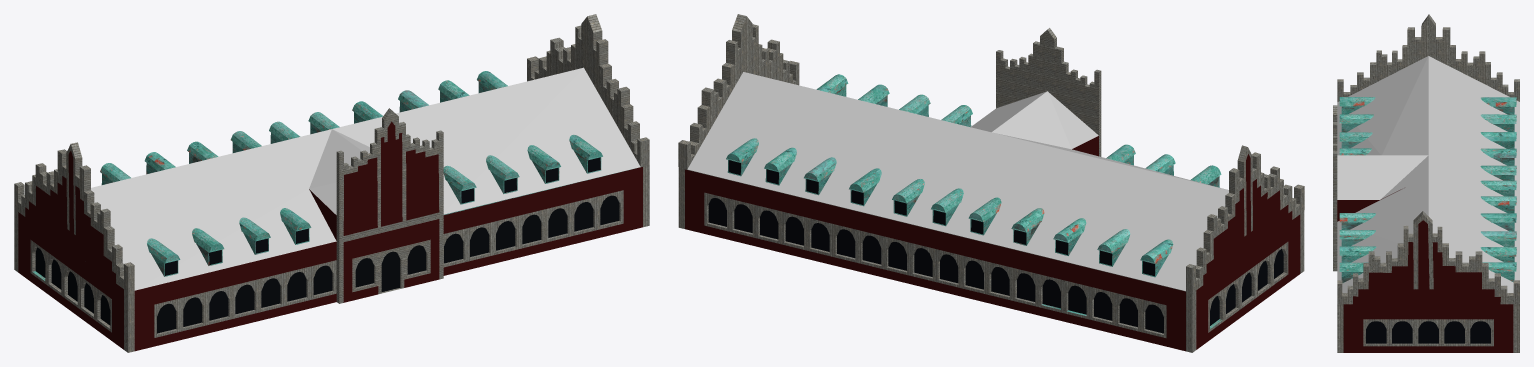
Rendered from FinalBuilding.obj.
3 renders of one model, left to right at view 1: azimuth 30°, elevation 25°; view 2: azimuth 150°, elevation 25°; view 3: azimuth 270°, elevation 25°, orthographic. The views are drawn at different scales.
Visible parts, largest first — view 1: Cube.018_Cube.019; view 2: Cube.018_Cube.019; view 3: Cube.018_Cube.019.
Boxes of the visible parts, x1,y1,x2,y2 form: Cube.018_Cube.019: [14, 14, 649, 352]; Cube.018_Cube.019: [678, 14, 1304, 352]; Cube.018_Cube.019: [1333, 14, 1519, 352].
Size of the model in its own units: 45.01 by 14.94 by 17.38.
